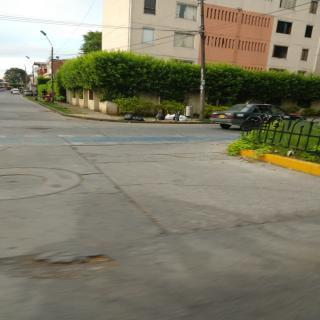Garbage: (123, 113, 135, 121), (155, 113, 166, 120), (134, 115, 145, 121), (165, 114, 174, 120), (179, 115, 188, 121), (174, 112, 180, 121)
